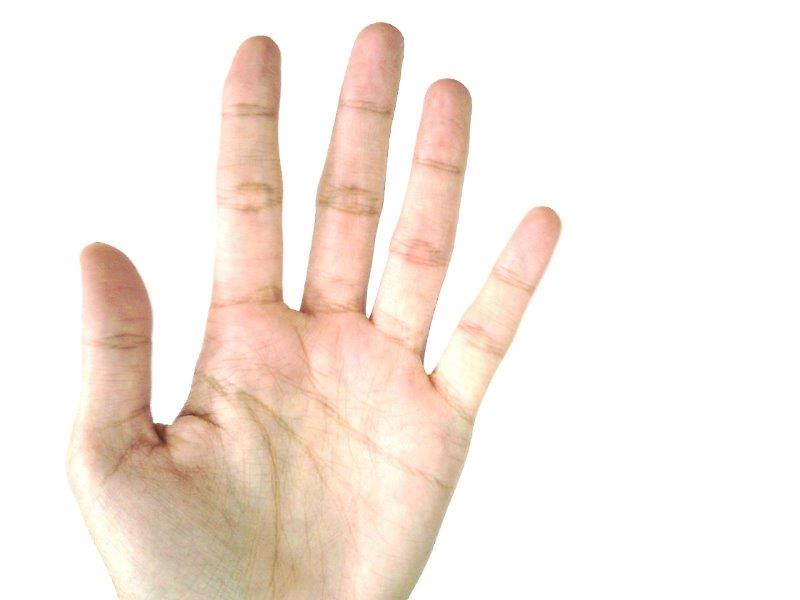hand: (77, 22, 562, 597)
